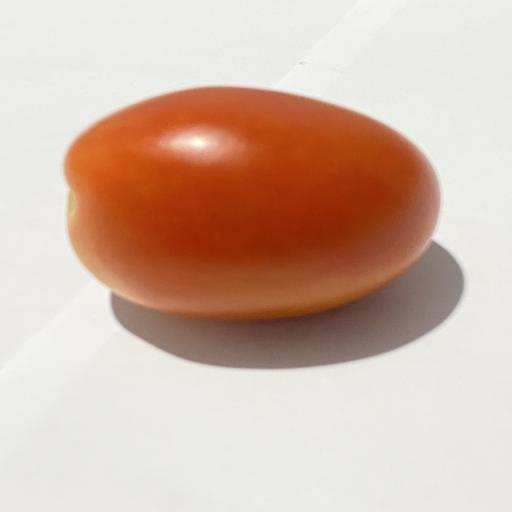ripe: (65, 87, 440, 319)
